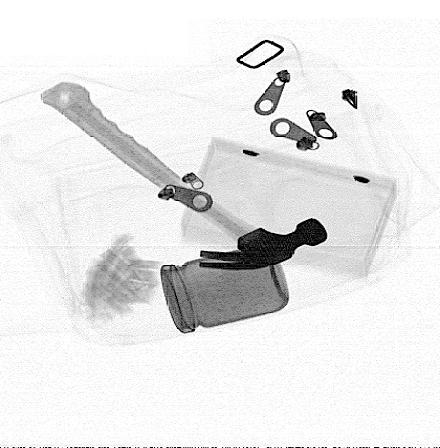Hammer: (40, 81, 328, 271)
